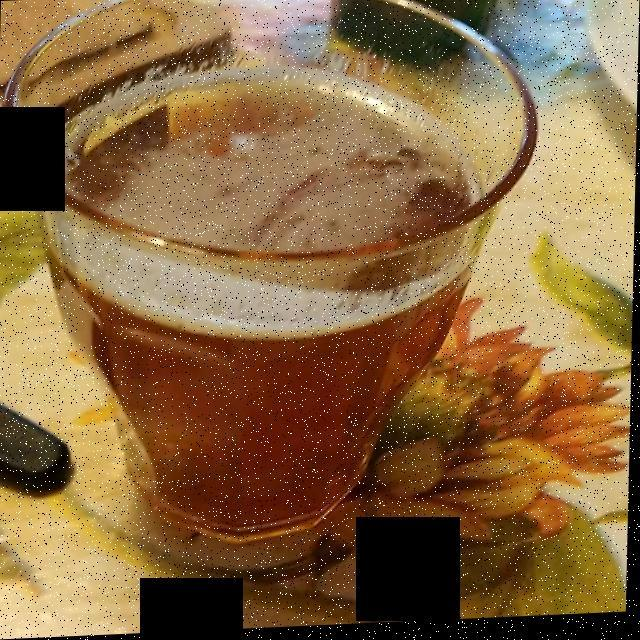drink: (31, 71, 470, 545)
